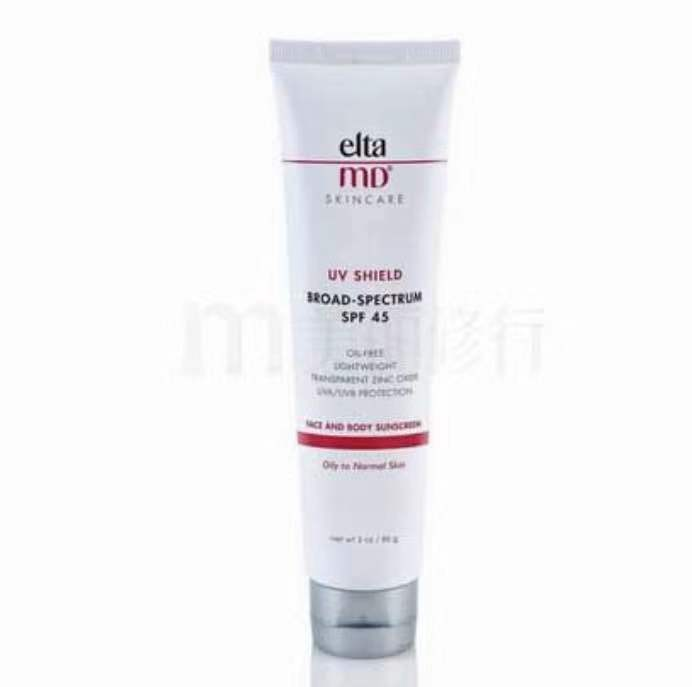cosmetic: (265, 39, 465, 661)
